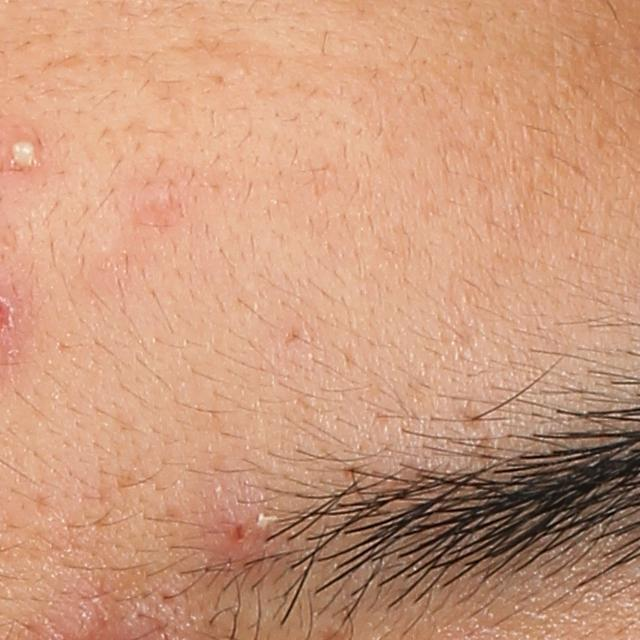pustule: (7, 132, 43, 173)
